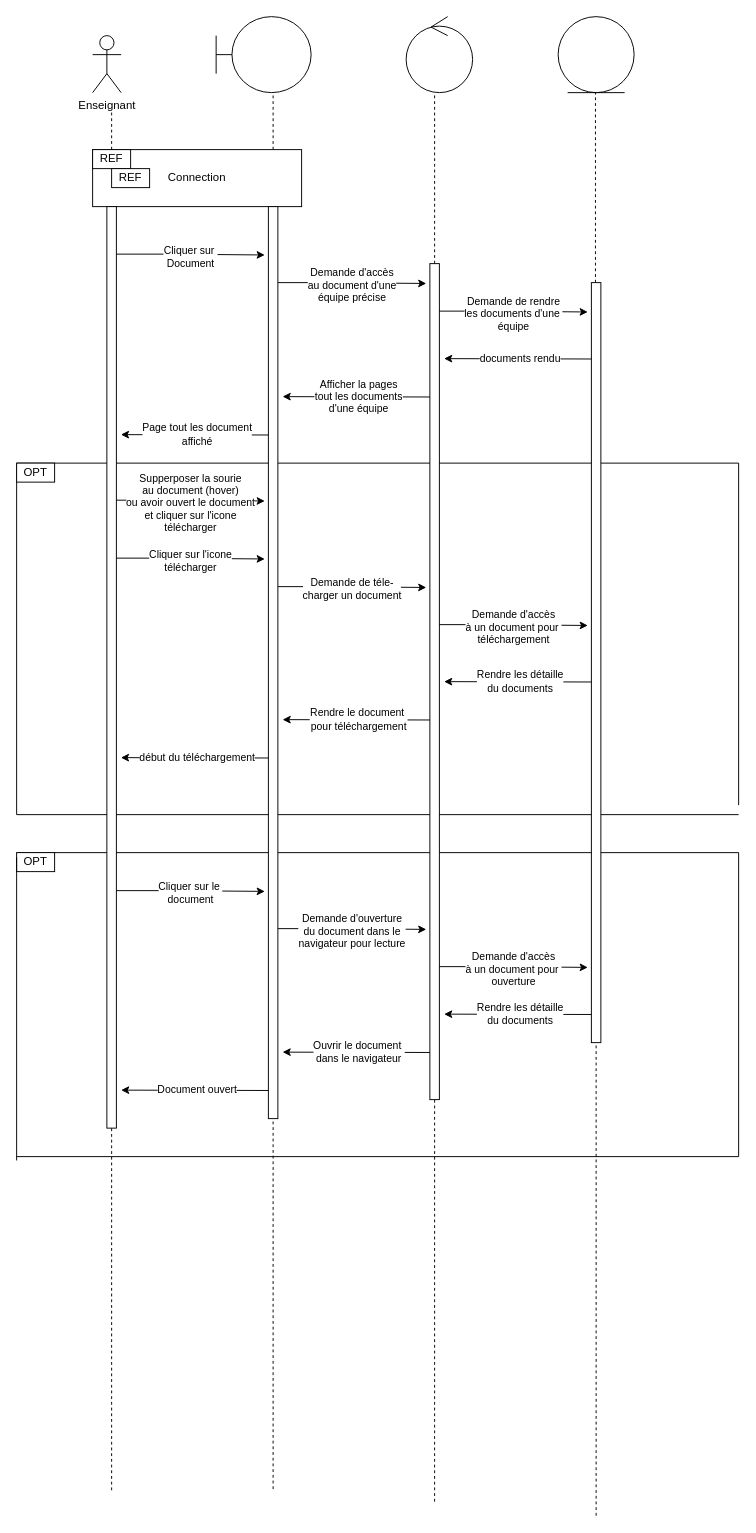
The diagram is 756 pixels wide and 1533 high, and some of its shapes have lost their labels. The shapes that lost their labels are listed below. From the top down, each one's centre as x and y in pixels, then its label:
point (263, 54): interface équipes
point (439, 54): Contrôleur
point (595, 54): Database
